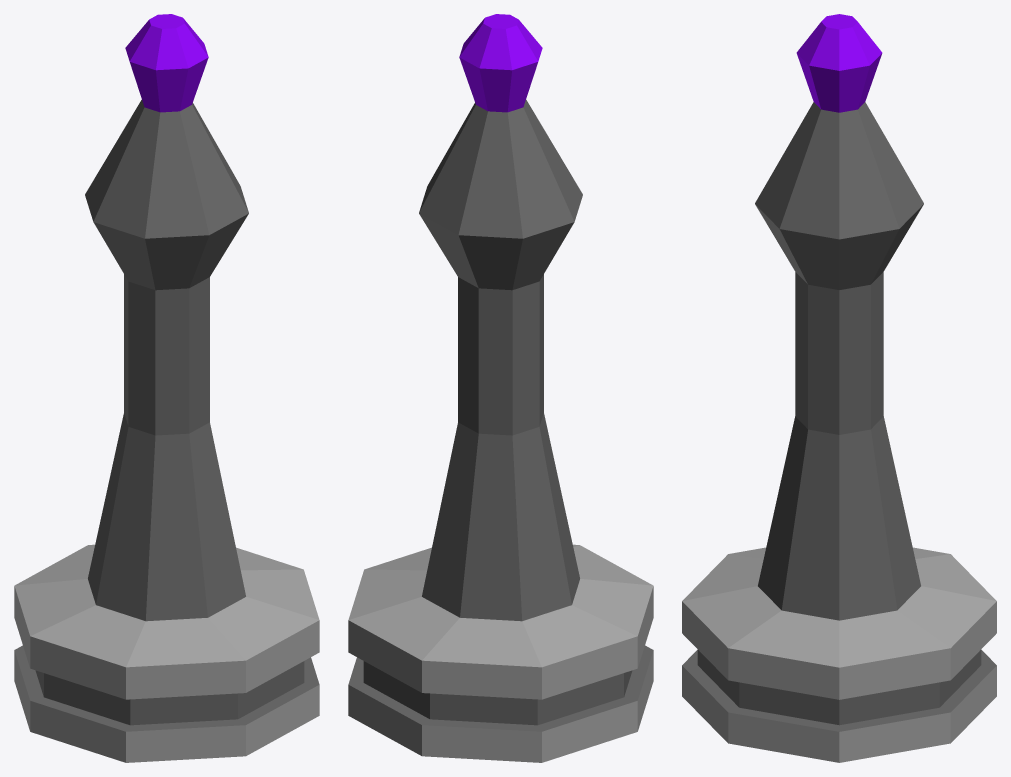
The model's file is Temp Statue Object.FBX.
The picture shows the model from 3 angles, left to right: view 1: azimuth 30°, elevation 25°; view 2: azimuth 150°, elevation 25°; view 3: azimuth 270°, elevation 25°; orthographic projection.
Visible parts, largest first — view 1: Cylinder001; view 2: Cylinder001; view 3: Cylinder001.
Boxes of the visible parts, left/top/right/bottom form: Cylinder001: left=14, top=14, right=319, bottom=762; Cylinder001: left=348, top=14, right=653, bottom=762; Cylinder001: left=682, top=14, right=996, bottom=762.
Bounding box in the file's own units: 1.98 × 4.68 × 1.98.
